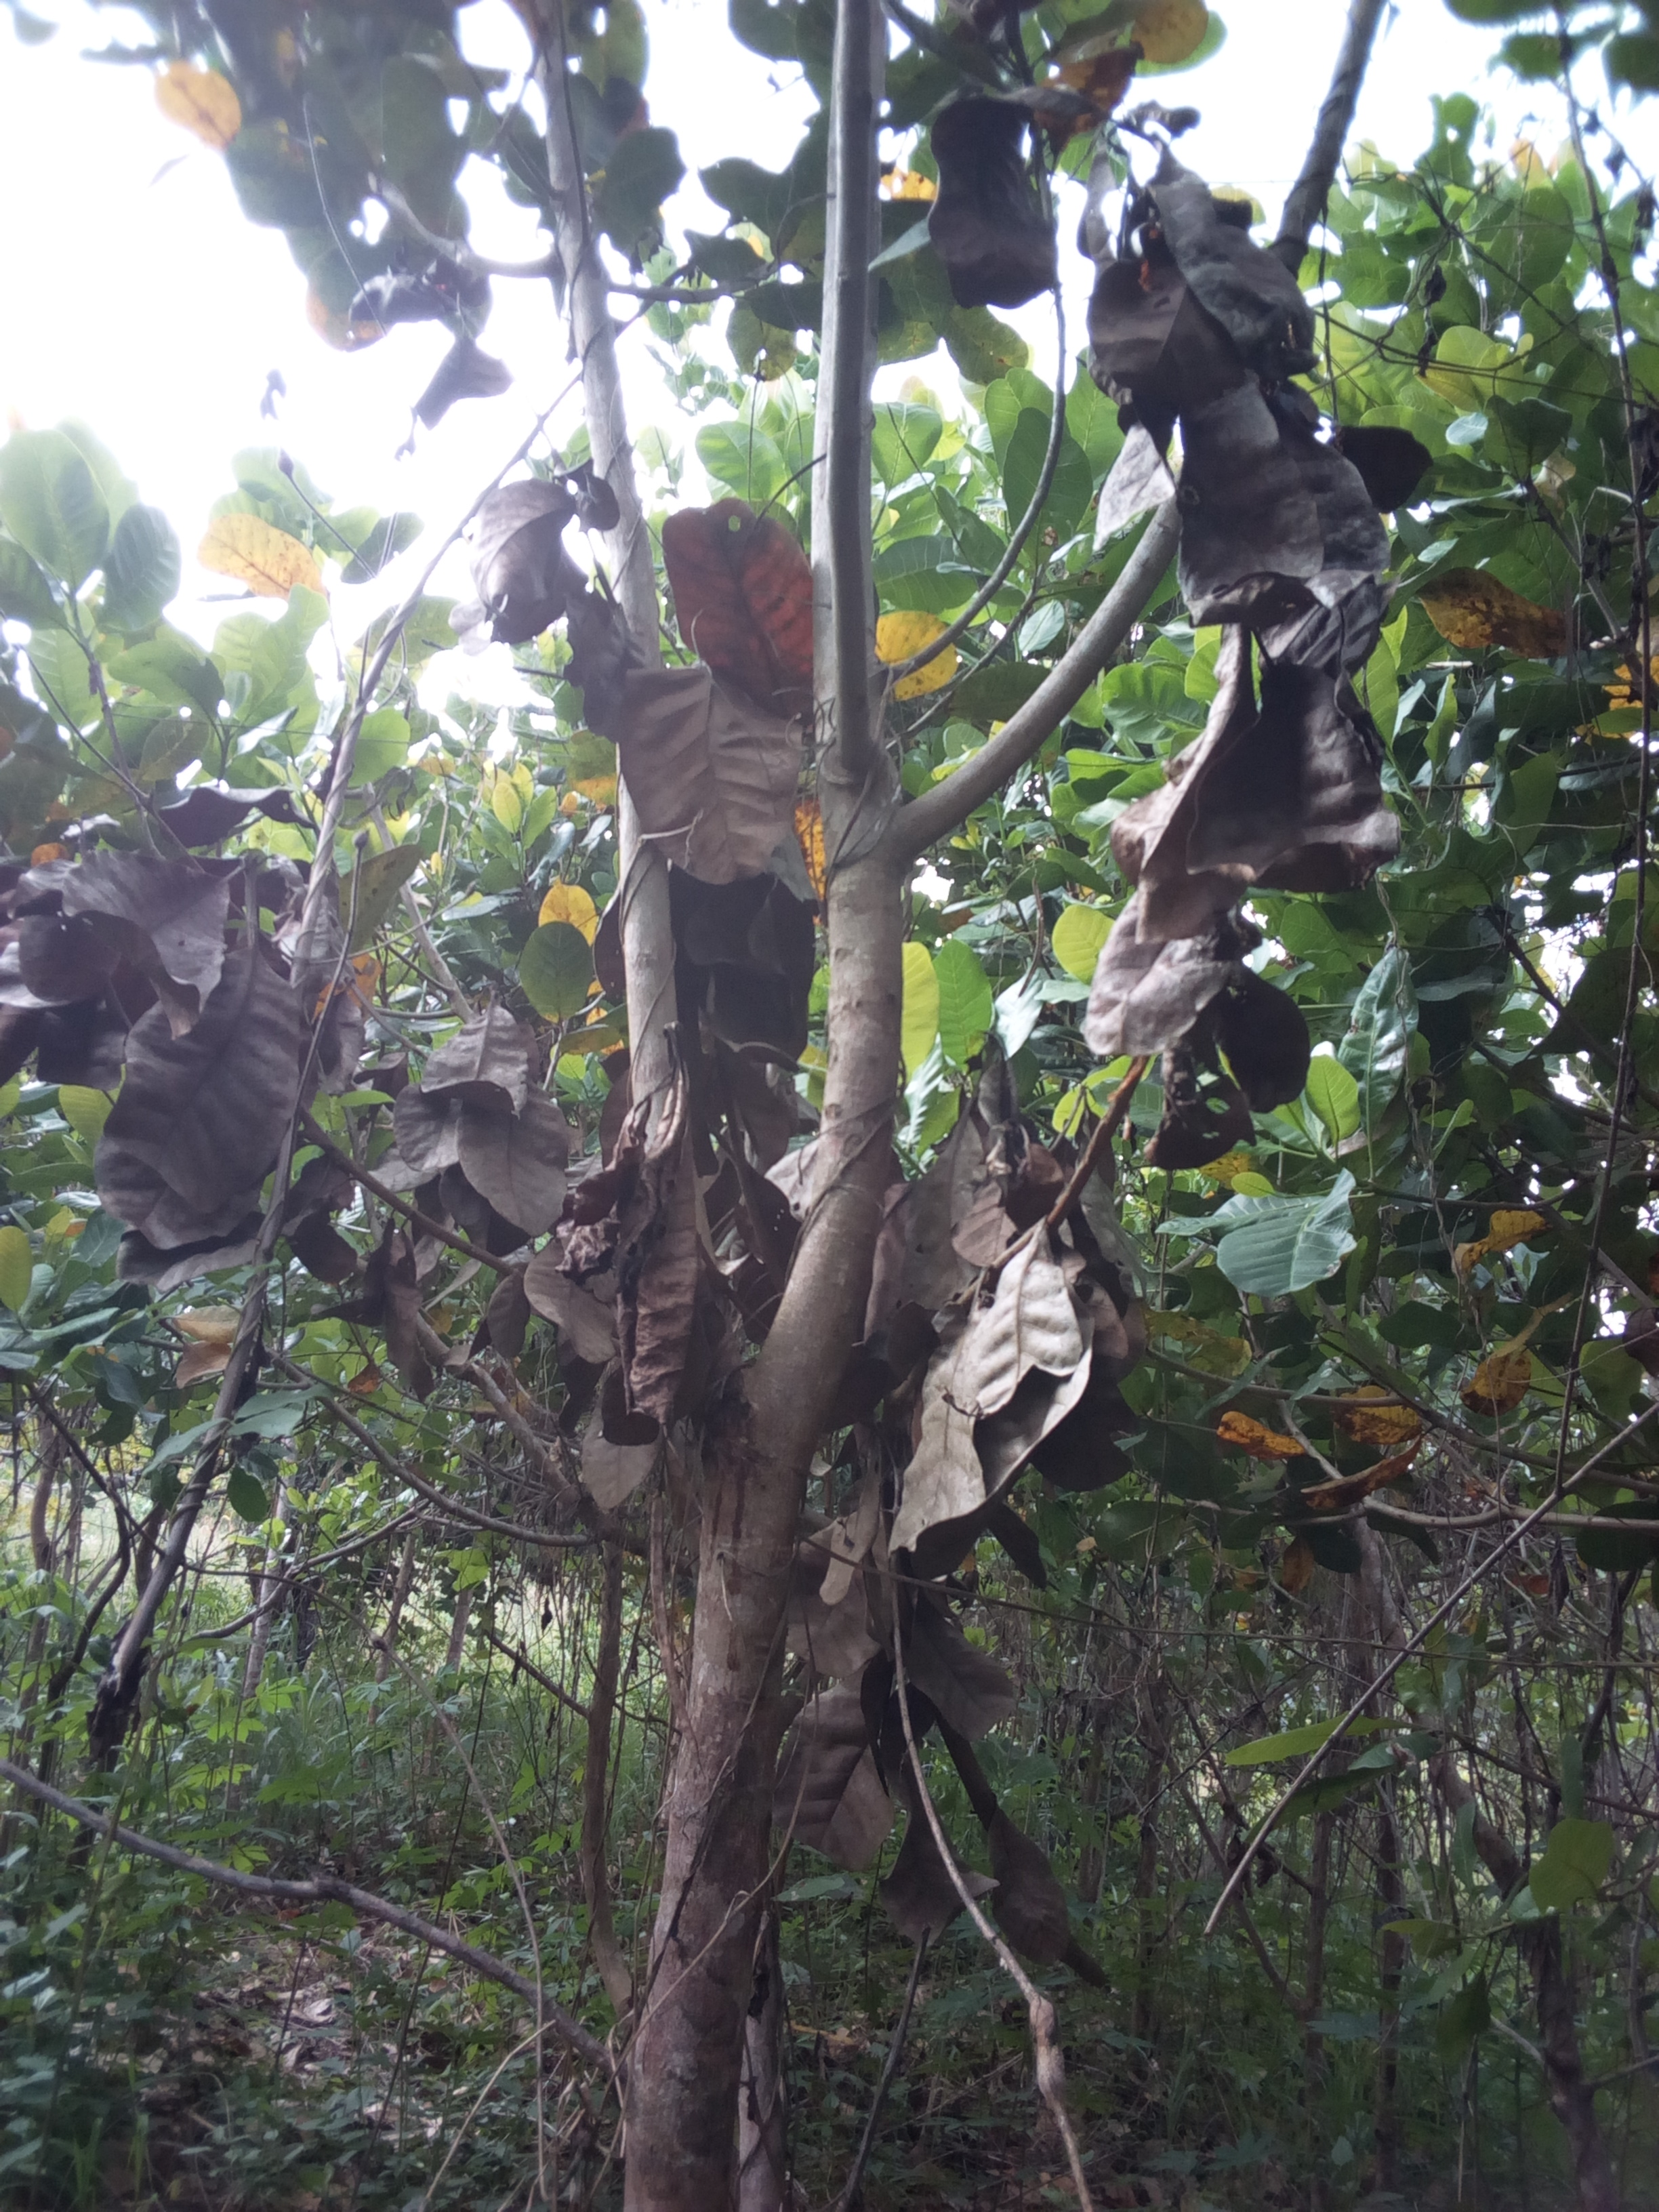Dessèchement des bourgeons: (927, 1216, 1080, 1498), (1103, 155, 1284, 392)
